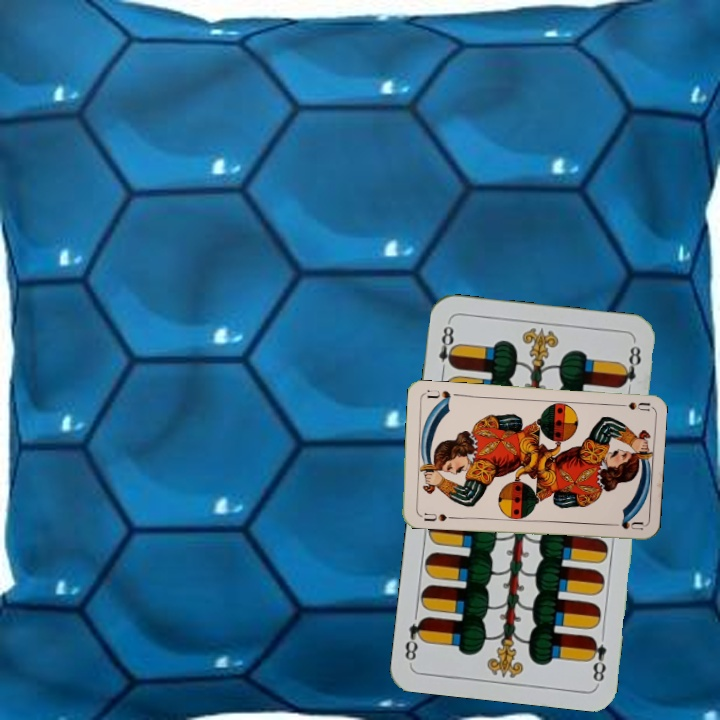E8: (435, 318, 459, 377), (585, 633, 609, 685)
SU: (610, 398, 651, 413), (420, 509, 449, 524)
